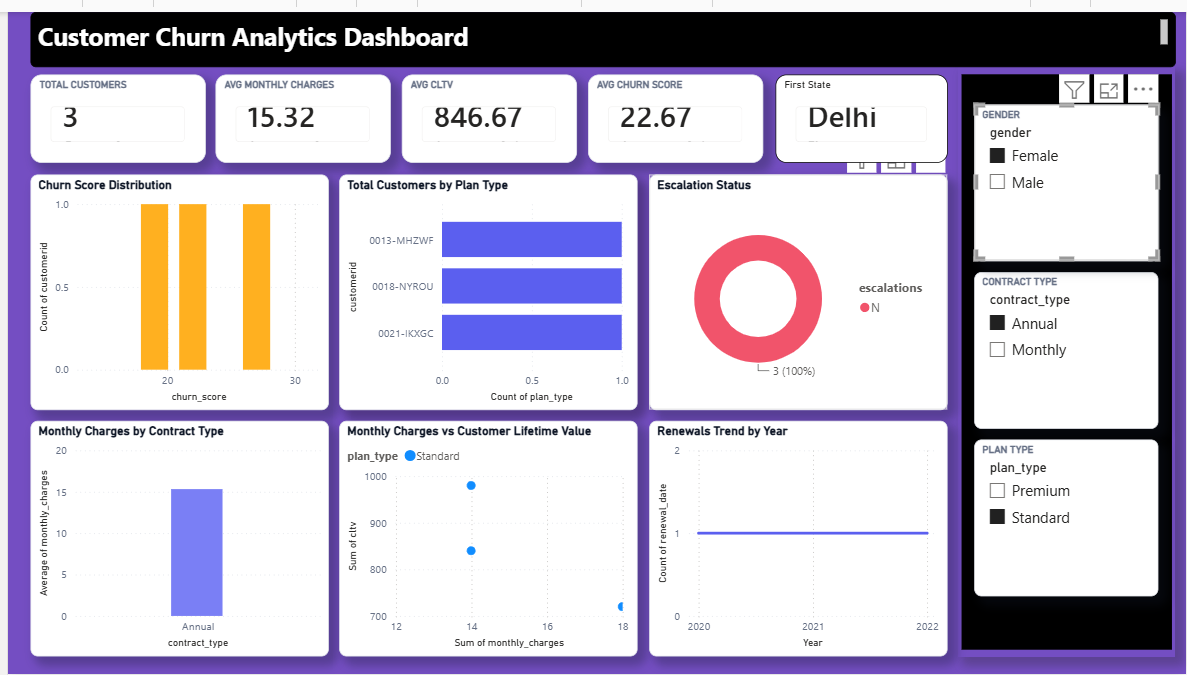

Layout of this report page (visuals, bound fields, positions):
{"tool":"powerbi","page":{"name":"Page 1","canvas":[1280,720],"ordinal":0},"visuals":[{"type":"basicShape","box":[1031.8,59.7,236.2,640.8],"z":0},{"type":"cardVisual","title":"TOTAL CUSTOMERS","fields":{"Data":["Count(db_customer.customerid)"]},"box":[24,68,190,96],"z":1000},{"type":"cardVisual","title":"AVG MONTHLY CHARGES","fields":{"Data":["Avg(db_subscription.monthly_charges)"]},"box":[226,68,190,96],"z":2000},{"type":"cardVisual","title":"AVG CLTV","fields":{"Data":["Avg(db_subscription.cltv)"]},"box":[428,68,190,96],"z":3000},{"type":"cardVisual","title":"AVG CHURN SCORE","fields":{"Data":["Average(db_subscription.churn_score)"]},"box":[630,68,190,96],"z":4000},{"type":"clusteredColumnChart","title":"Churn Score Distribution","fields":{"Y":["Count(db_subscription.customerid)"],"Category":["db_subscription.churn_score"]},"box":[24,176,324,256],"z":5000},{"type":"clusteredBarChart","title":"Total Customers by Plan Type","fields":{"Category":["db_subscription.customerid"],"Y":["Count(db_subscription.plan_type)"]},"box":[360,176,324,256],"z":6000},{"type":"donutChart","title":"Escalation Status","fields":{"Category":["db_support.escalations"],"Y":["CountNonNull(db_subscription.customerid)"]},"box":[696,176,324,256],"z":7000},{"type":"clusteredColumnChart","title":"Monthly Charges by Contract Type","fields":{"Category":["db_subscription.contract_type"],"Y":["Avg(db_subscription.monthly_charges)"]},"box":[24,444,324,256],"z":8000},{"type":"scatterChart","title":"Monthly Charges vs Customer Lifetime Value","fields":{"X":["Sum(db_subscription.monthly_charges)"],"Y":["Sum(db_subscription.cltv)"],"Series":["db_subscription.plan_type"],"Category":["db_subscription.customerid"]},"box":[360,444,324,256],"z":9000},{"type":"lineChart","title":"Renewals Trend by Year","fields":{"Category":["db_subscription.subscription_start_date.Variation.Date Hierarchy.Year"],"Y":["CountNonNull(db_subscription.renewal_date)"]},"box":[696,444,324,256],"z":10000},{"type":"slicer","title":"GENDER","fields":{"Values":["db_customer.gender"]},"box":[1050,100,200,170],"z":11000},{"type":"slicer","title":"CONTRACT TYPE","fields":{"Values":["db_subscription.contract_type"]},"box":[1050,282,200,170],"z":12000},{"type":"slicer","title":"PLAN TYPE","fields":{"Values":["db_subscription.plan_type"]},"box":[1050,464,200,170],"z":13000},{"type":"textbox","box":[24.4,0,1243.6,59.7],"z":14000},{"type":"cardVisual","title":"First State","fields":{"Data":["Min(db_customer.state)"]},"box":[833.6,67.9,187.4,96.4],"z":15000}]}

Visuals, with their boxes in screenshot pixels (x1, y1, x2, y2), scaled from the page's 1280x720 canvas onto the 1187x675 screenshot:
basicShape: (957,56,1176,657)
"TOTAL CUSTOMERS" cardVisual: (22,64,198,154)
"AVG MONTHLY CHARGES" cardVisual: (210,64,386,154)
"AVG CLTV" cardVisual: (397,64,573,154)
"AVG CHURN SCORE" cardVisual: (584,64,760,154)
"Churn Score Distribution" clusteredColumnChart: (22,165,323,405)
"Total Customers by Plan Type" clusteredBarChart: (334,165,634,405)
"Escalation Status" donutChart: (645,165,946,405)
"Monthly Charges by Contract Type" clusteredColumnChart: (22,416,323,656)
"Monthly Charges vs Customer Lifetime Value" scatterChart: (334,416,634,656)
"Renewals Trend by Year" lineChart: (645,416,946,656)
"GENDER" slicer: (974,94,1159,253)
"CONTRACT TYPE" slicer: (974,264,1159,424)
"PLAN TYPE" slicer: (974,435,1159,594)
textbox: (23,0,1176,56)
"First State" cardVisual: (773,64,947,154)
